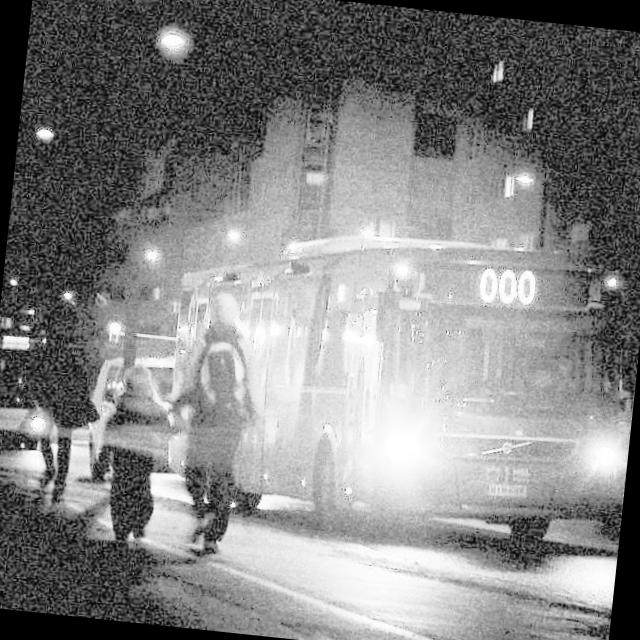Bus: (135, 191, 640, 573)
